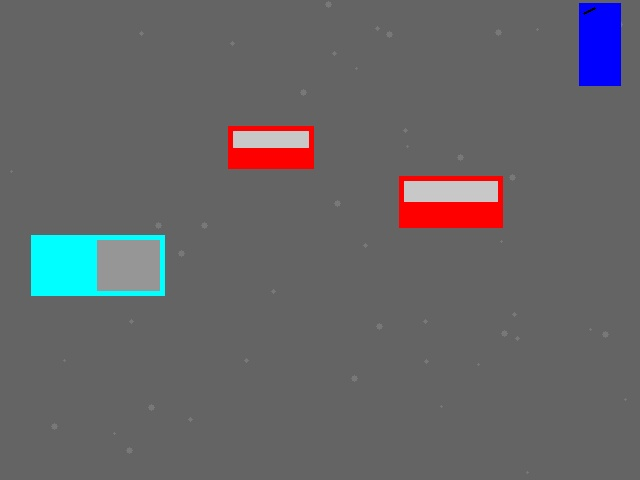car: (399, 176, 502, 227), (228, 126, 313, 168)
motorcycle: (579, 3, 620, 85)
truck: (31, 235, 164, 295)
